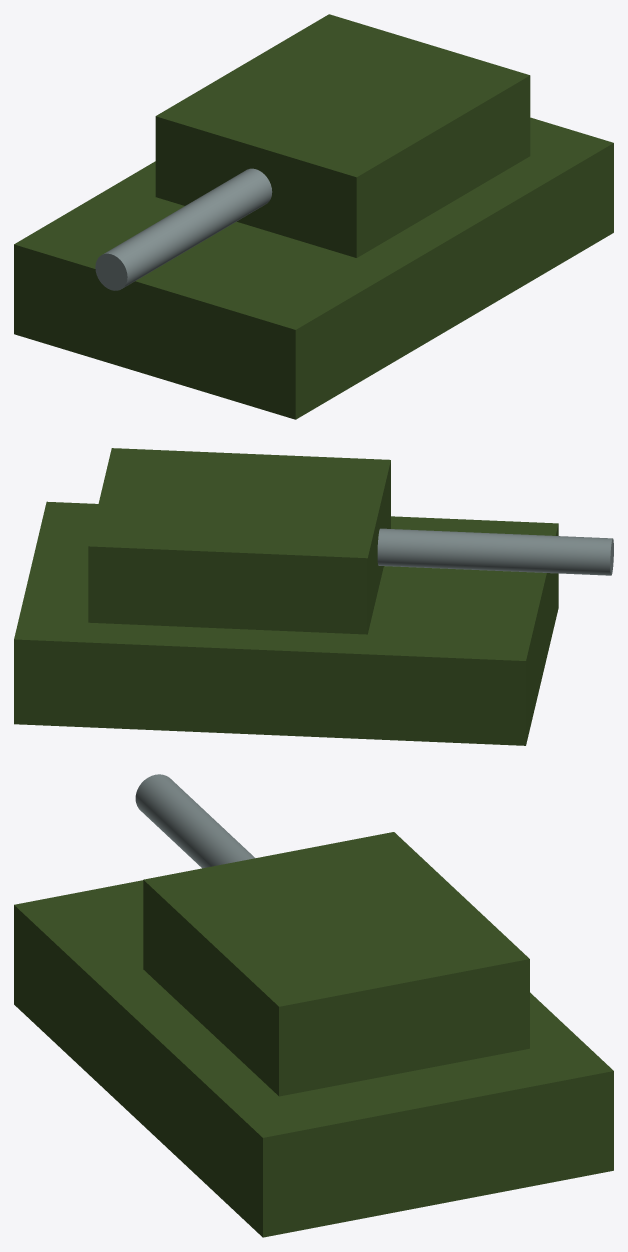
The model's file is turkish_altay_tank.glb.
3 renders of one model, top to bottom at view 1: azimuth 30°, elevation 25°; view 2: azimuth 150°, elevation 25°; view 3: azimuth 270°, elevation 25°, orthographic. The views are drawn at different scales.
Visible parts, largest first — view 1: tank_chassis, tank_turret, tank_cannon; view 2: tank_chassis, tank_turret, tank_cannon; view 3: tank_chassis, tank_turret, tank_cannon.
Boxes of the visible parts, left/top/right/bottom form: tank_chassis: left=14, top=117, right=613, bottom=419; tank_turret: left=155, top=14, right=530, bottom=257; tank_cannon: left=95, top=168, right=272, bottom=290; tank_chassis: left=14, top=501, right=558, bottom=745; tank_turret: left=88, top=448, right=390, bottom=634; tank_cannon: left=377, top=528, right=613, bottom=575; tank_chassis: left=14, top=880, right=613, bottom=1237; tank_turret: left=143, top=832, right=529, bottom=1096; tank_cannon: left=135, top=774, right=255, bottom=868.
Size of the model in its own units: 13 by 3.8 by 10.9.
